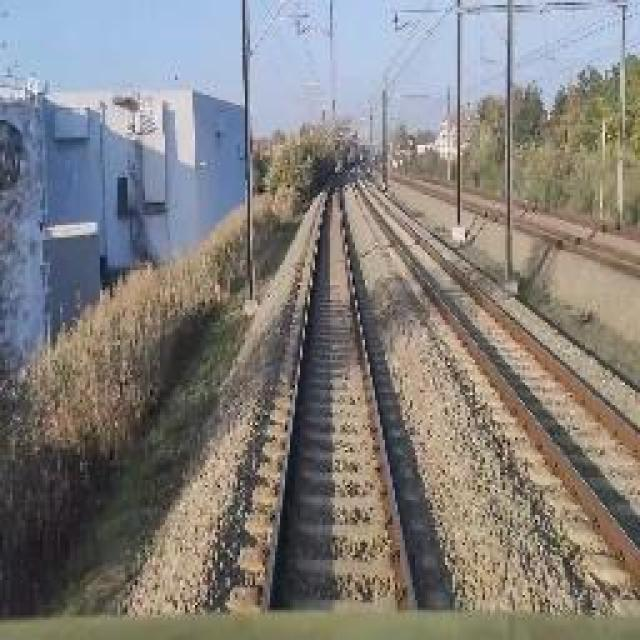rail: (351, 173, 640, 612), (230, 164, 439, 621)
